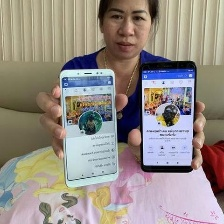phone: (57, 64, 121, 191), (138, 57, 200, 176)
